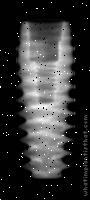Anthogyr: (17, 20, 74, 181)
